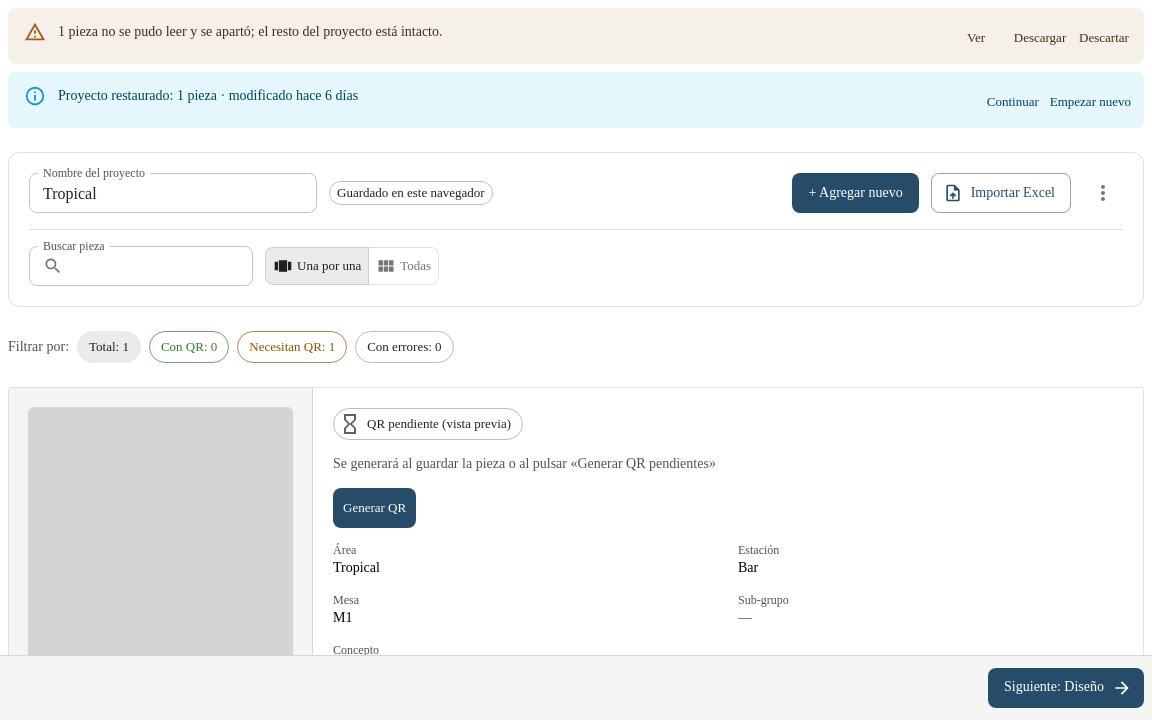
Test: descargas y avisos con acciones (§S6) › la cuarentena ofrece Ver, Descargar y Descartar
This screenshot has width=1152, height=720.
Expected: the text "1 pieza no se pudo leer y se apartó" is shown, [58,24,251,39]
Click the button "Ver".
click(976, 38)  # box [944,18,1008,58]
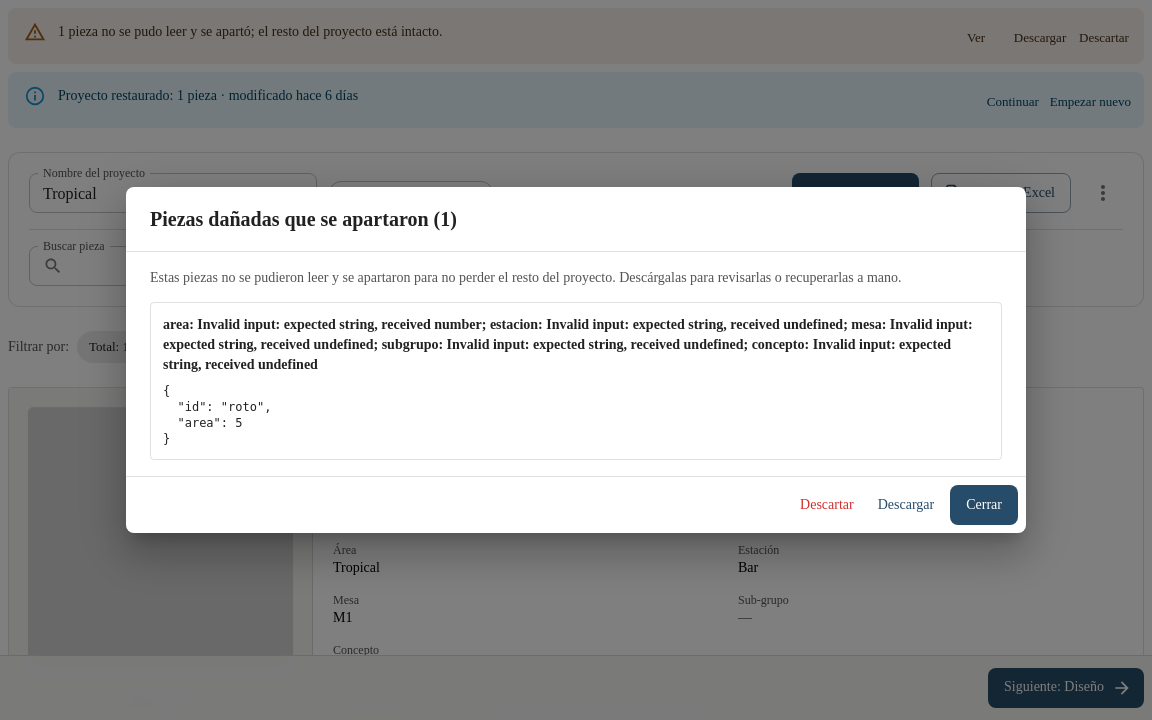
Now the text "{ \"id\": \"roto\", \"area\": 5 }" is shown, box [163,384,271,446]
Click the button "Cerrar".
click(984, 505)  # box [950,485,1018,525]
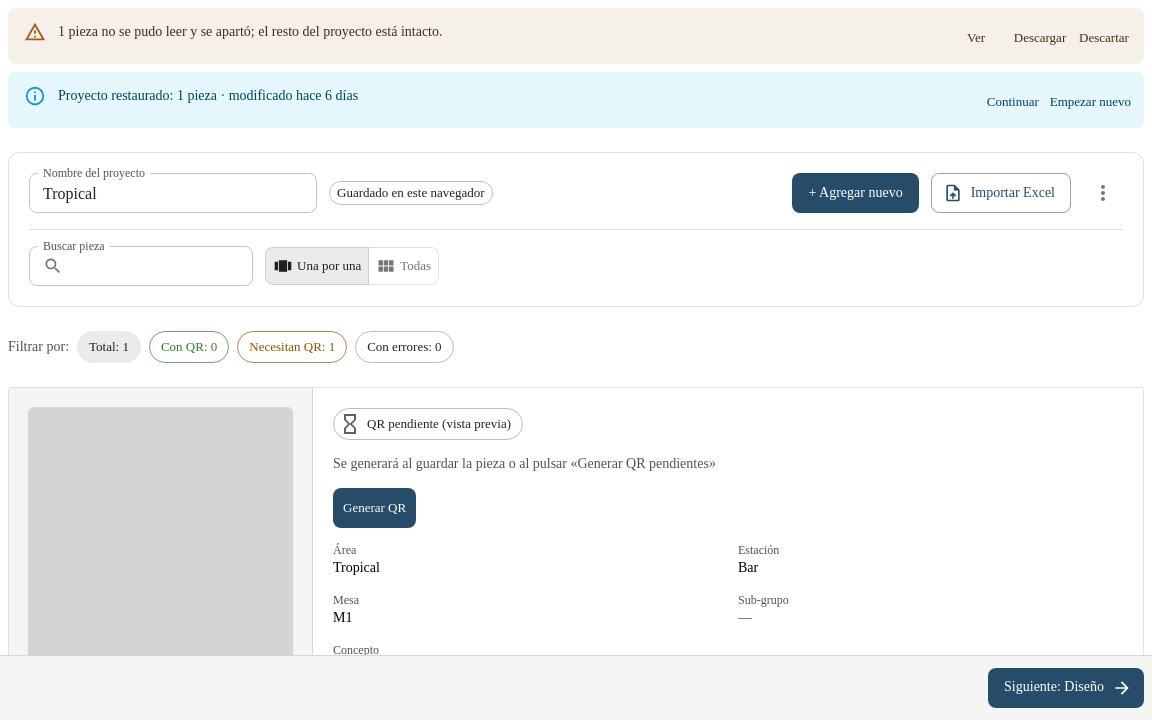
Now the dialog is gone
Click the button "Descargar".
click(1040, 38)  # box [1008,18,1072,58]
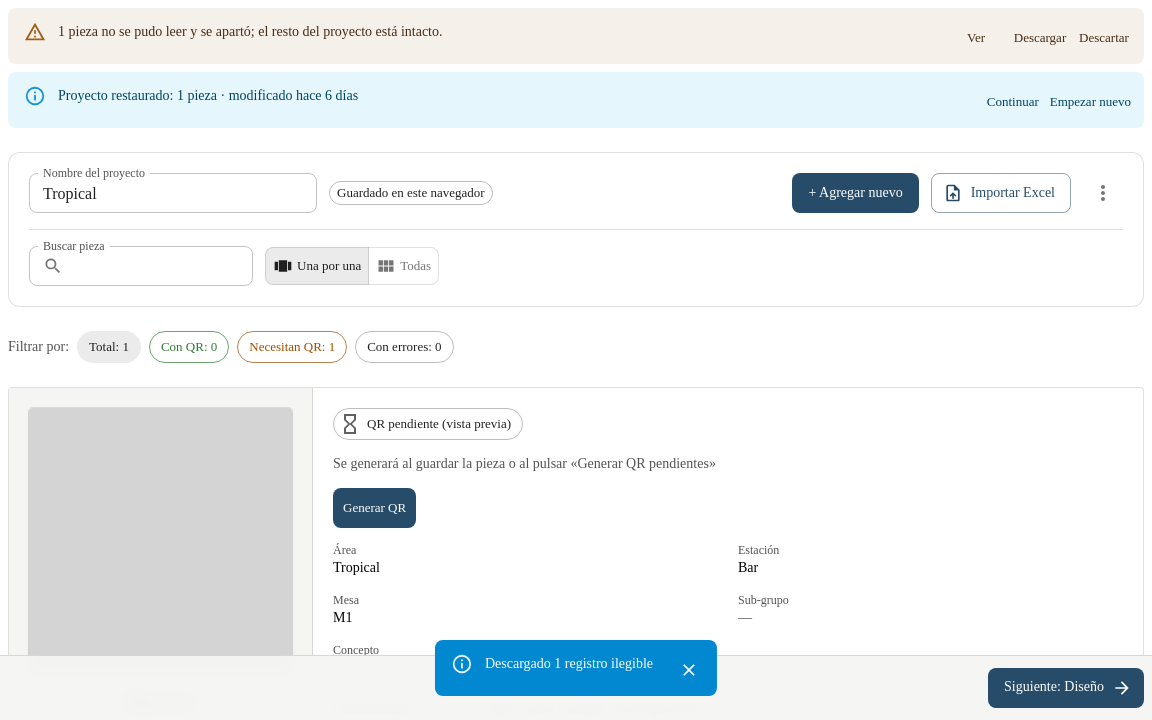
Click the button "Descartar".
click(1104, 38)  # box [1072,18,1136,58]
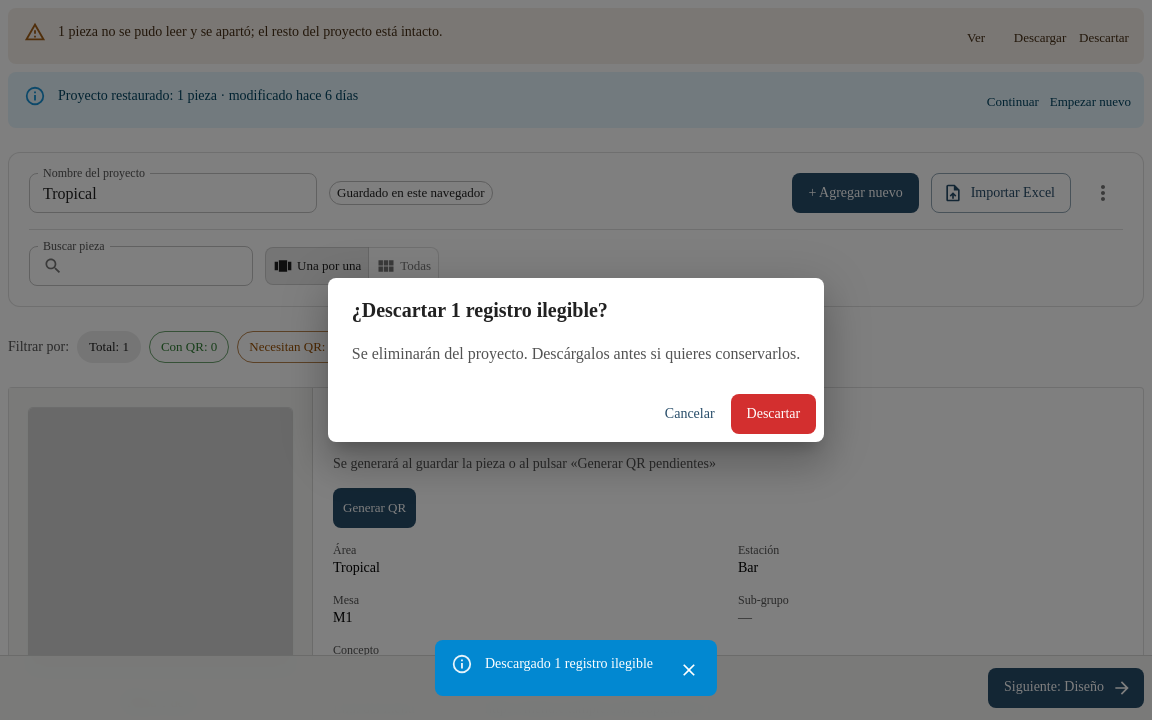
Click the button "Descartar".
click(773, 414)  # box [731,394,816,434]
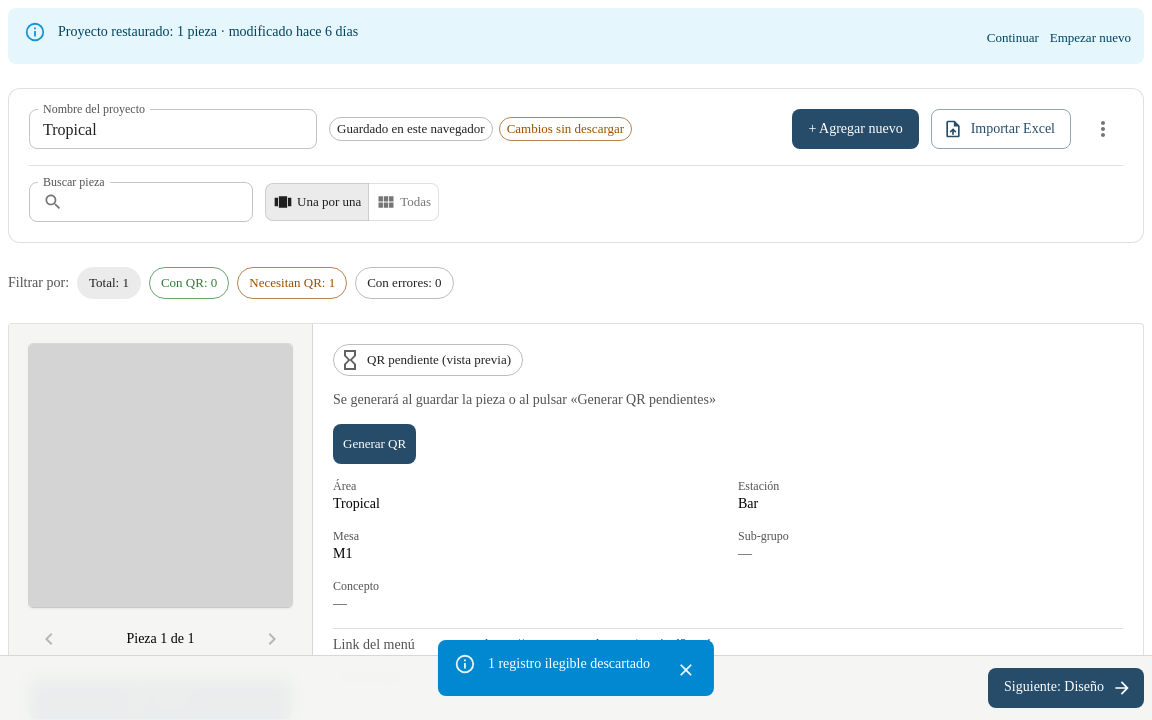
Now the text "no se pudo leer" is gone
